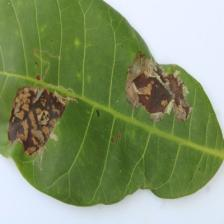leaf miner: (0, 0, 223, 207), (6, 84, 74, 156), (124, 50, 190, 122)
